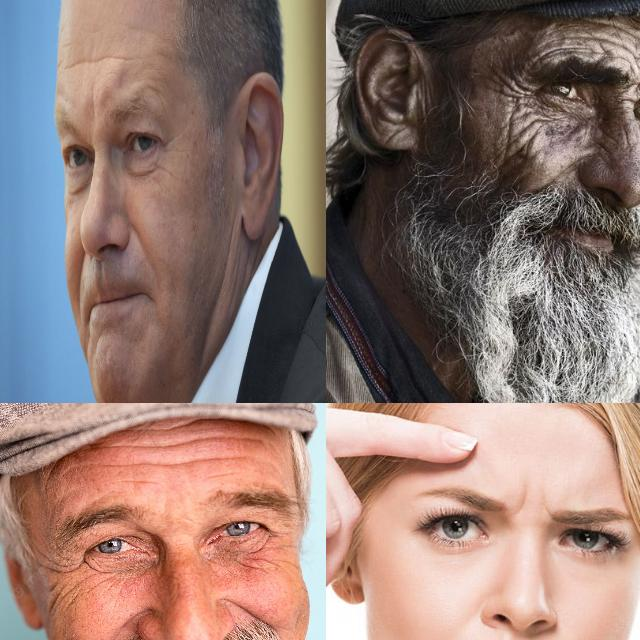bunny_line: (590, 123, 616, 153), (619, 122, 633, 150)
crows_feet: (490, 81, 538, 131), (266, 526, 298, 580), (48, 546, 82, 592), (161, 134, 183, 160)
forehead: (115, 432, 262, 470), (571, 31, 640, 66), (67, 51, 135, 74), (481, 54, 514, 100)
frown_line: (512, 482, 552, 526), (88, 95, 96, 121), (635, 64, 640, 99)
gummy_smile: (104, 603, 150, 635), (230, 598, 276, 624), (130, 220, 149, 261), (76, 249, 89, 304)
masseter: (496, 130, 536, 168), (221, 214, 240, 292)
